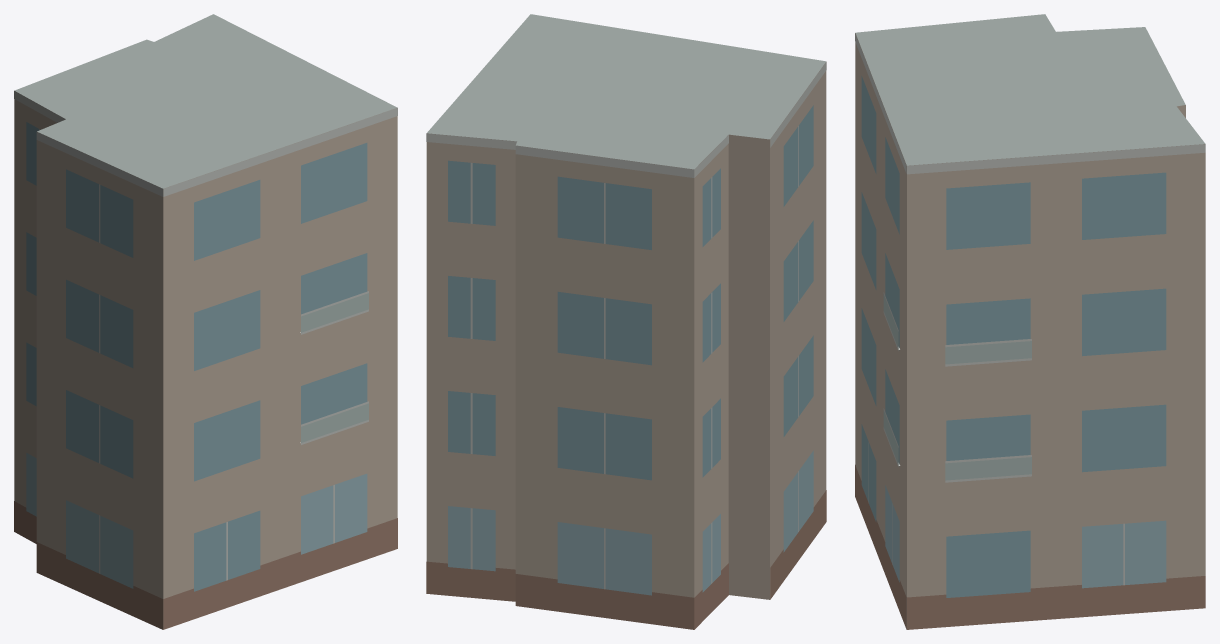
The model's file is survey-upis-32894614.glb.
The picture shows the model from 3 angles, left to right: view 1: azimuth 30°, elevation 25°; view 2: azimuth 150°, elevation 25°; view 3: azimuth 270°, elevation 25°; orthographic projection. The views are drawn at different scales.
Visible parts, largest first — view 1: survey-upis-32894614.tmp; view 2: survey-upis-32894614.tmp; view 3: survey-upis-32894614.tmp.
Boxes of the visible parts, left/top/right/bottom form: survey-upis-32894614.tmp: left=14, top=14, right=397, bottom=629; survey-upis-32894614.tmp: left=426, top=14, right=826, bottom=629; survey-upis-32894614.tmp: left=855, top=14, right=1205, bottom=629.
Bounding box in the file's own units: 9.05 × 12.9 × 8.83.
